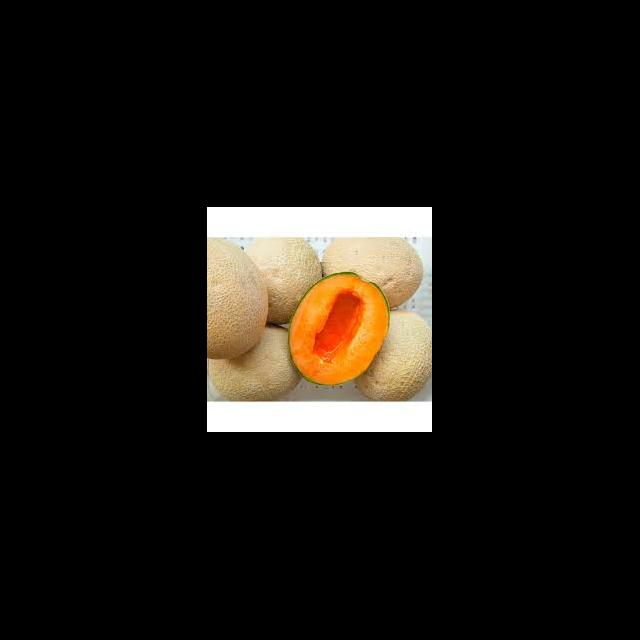Hami Melon: (290, 273, 391, 384)
